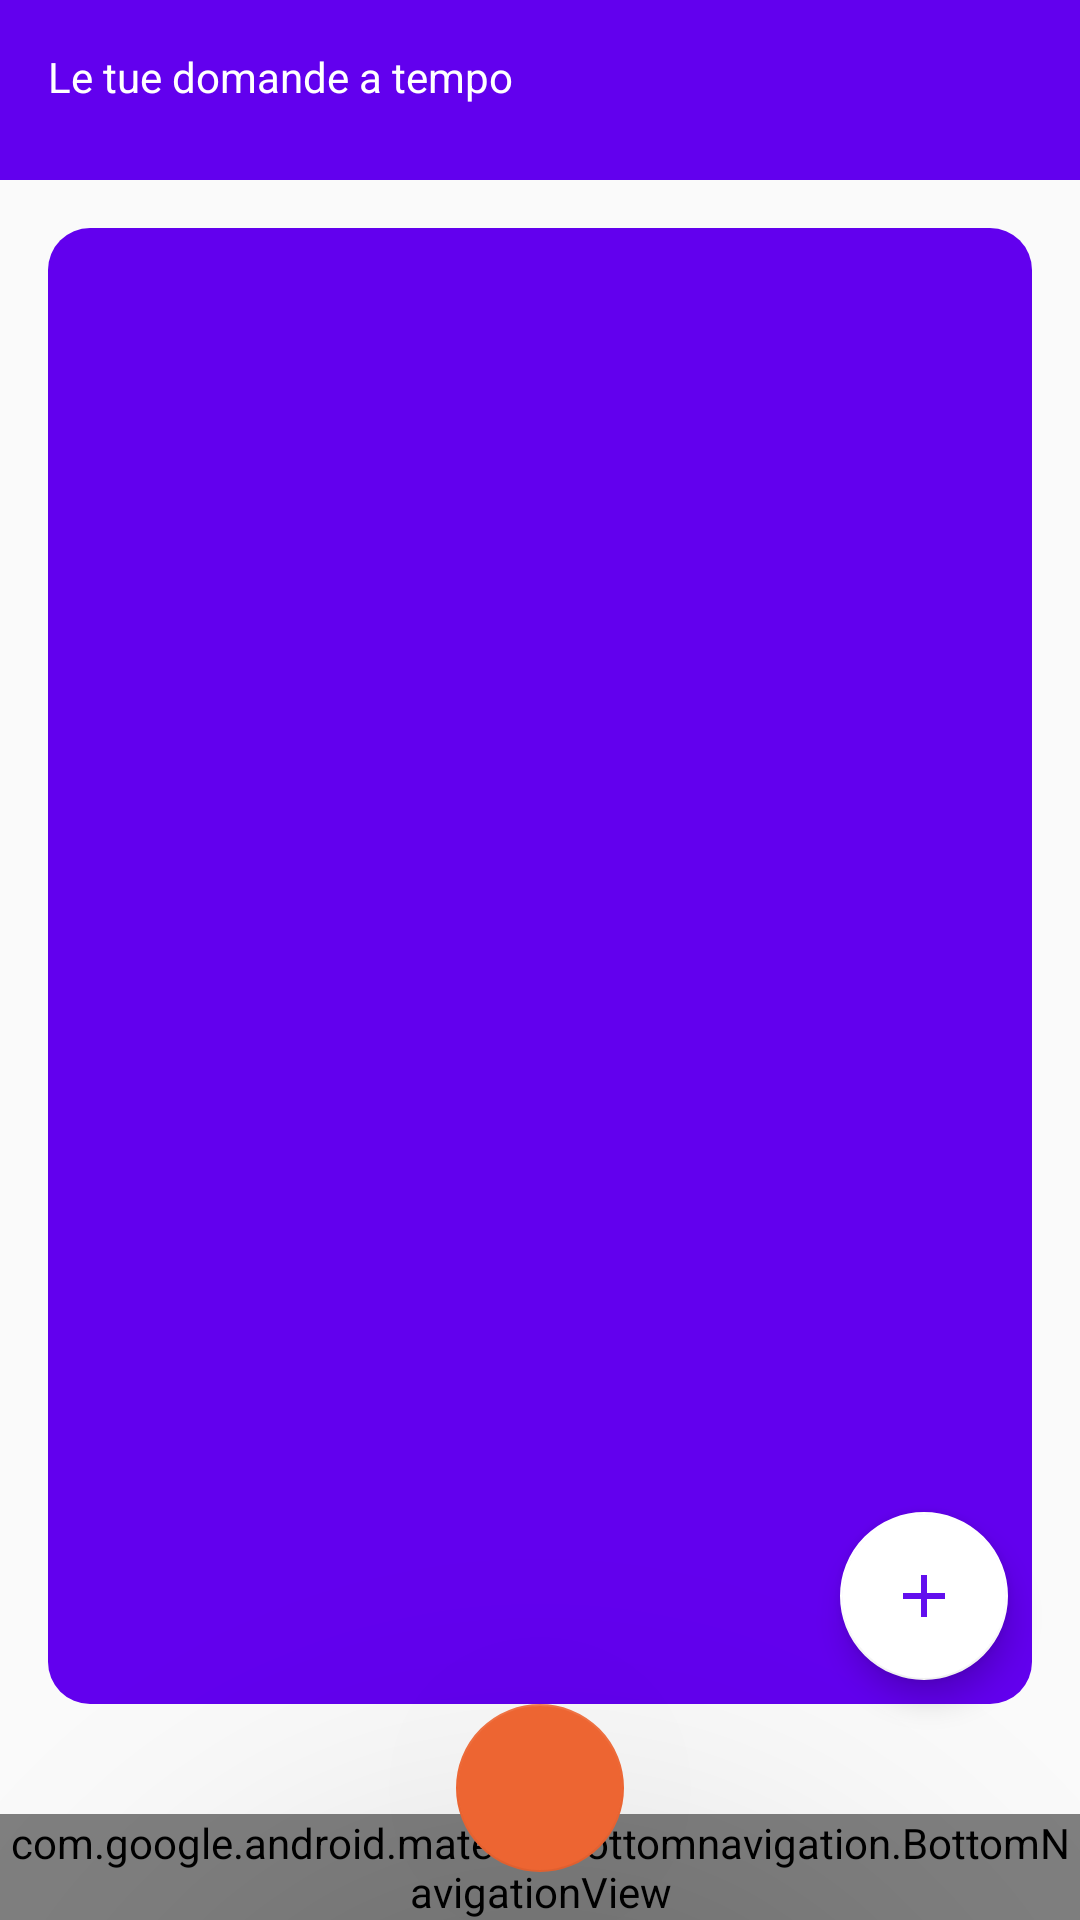

Icons on this 1080×1920 Android screen, each with its box as (x1, y1, x2, y2):
add: (840, 1512, 1008, 1680)
